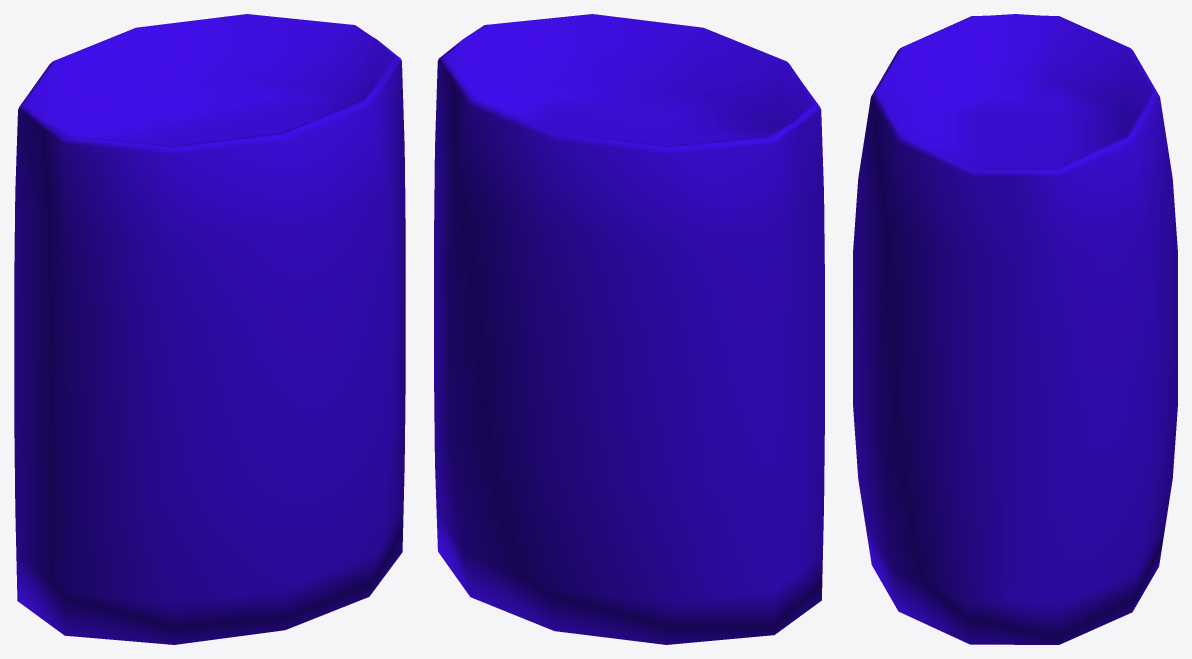
File: Bin.fbx
3 views of the same model, side by side, from view 1: azimuth 30°, elevation 25°; view 2: azimuth 150°, elevation 25°; view 3: azimuth 270°, elevation 25° (orthographic). The views are drawn at different scales.
Parts seen in each view (by area): view 1: bin; view 2: bin; view 3: bin.
Boxes of the visible parts, left/top/right/bottom form: bin: left=14, top=14, right=405, bottom=644; bin: left=434, top=14, right=824, bottom=644; bin: left=853, top=14, right=1177, bottom=644.
Bounding box in the file's own units: 215 × 302 × 187.
